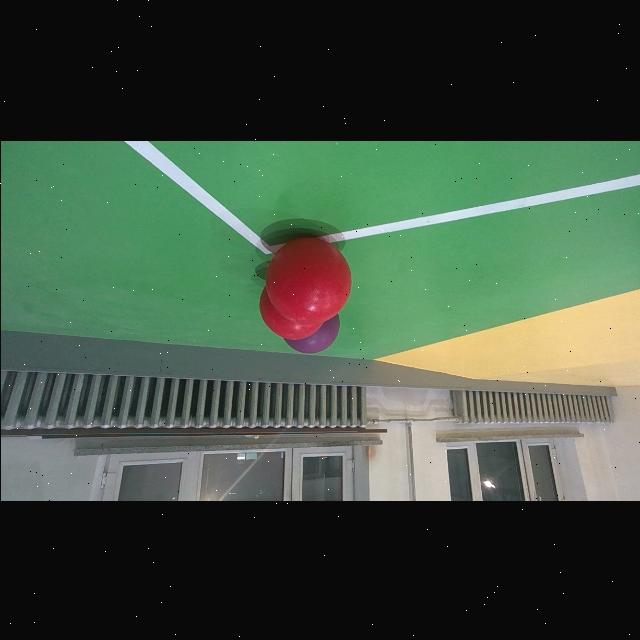B: (296, 324, 344, 358)
R: (266, 237, 350, 323), (258, 284, 322, 338)
